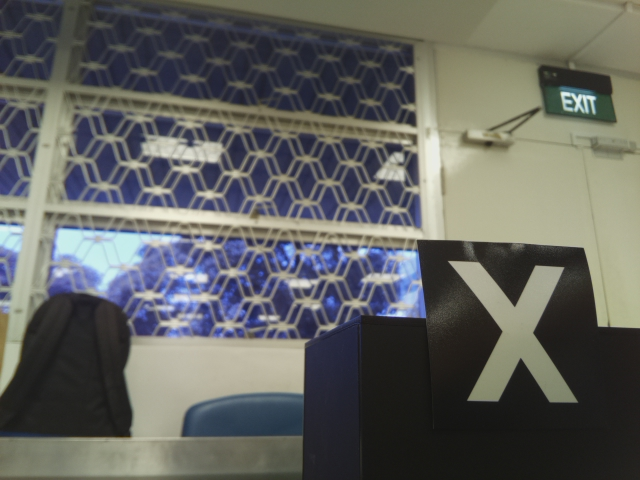x: (431, 257, 609, 416)
